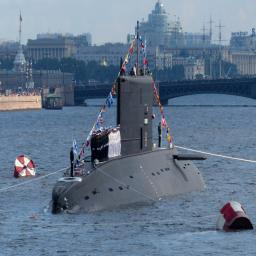submarine: (52, 83, 210, 217)
